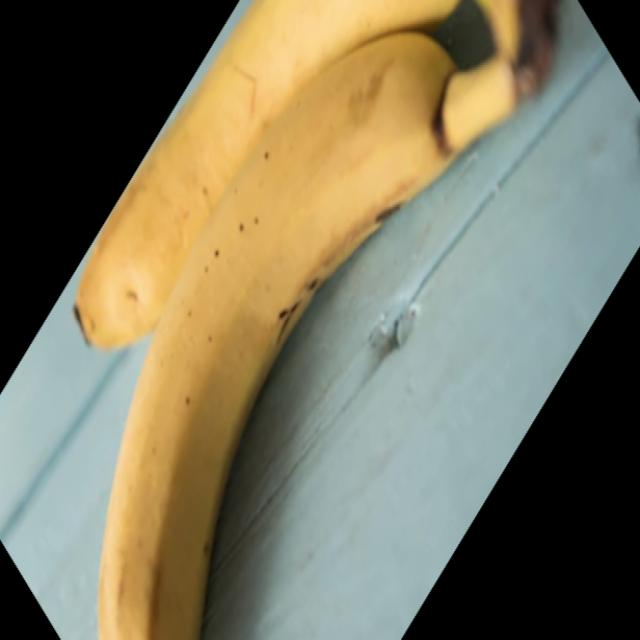god quality banana: (75, 2, 556, 637)
